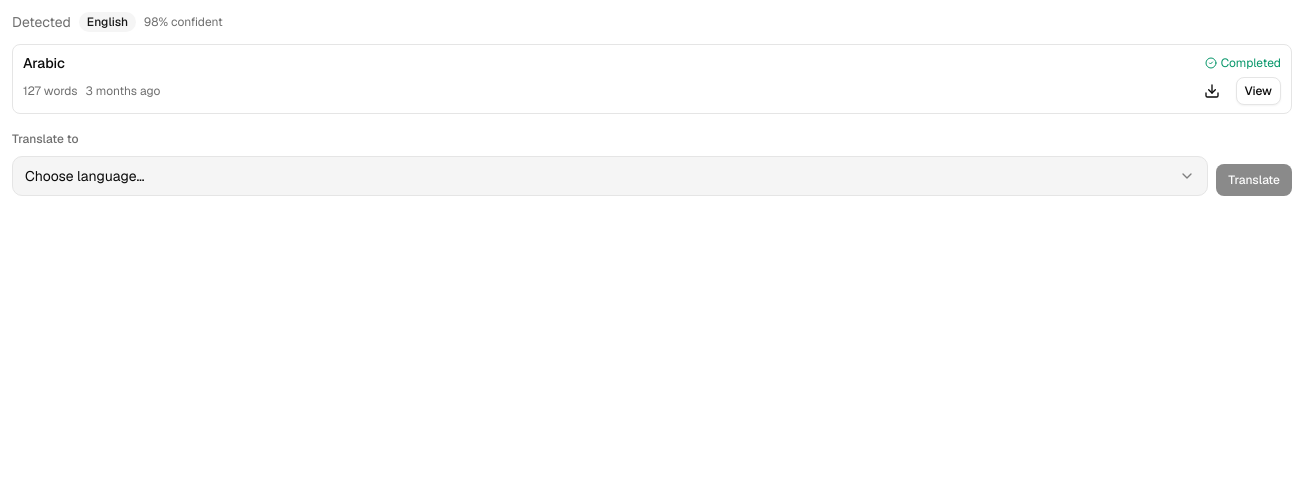
it: <TranslationPanel> › excludes the detected language and already-translated ones from the picker
Click the dropdown: [85, 176] box [12, 156, 1208, 196]
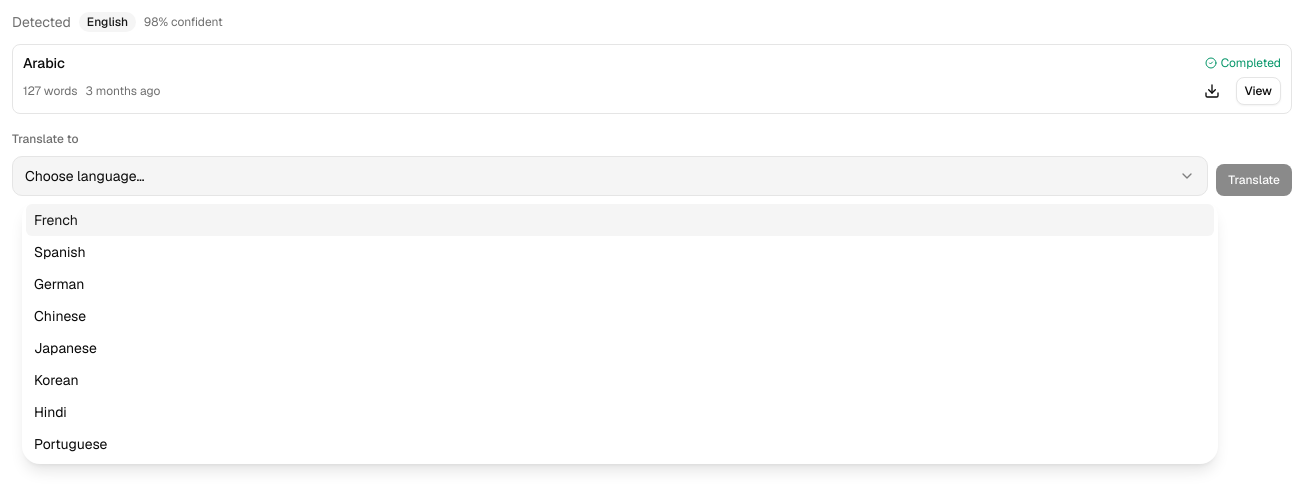
Result: the option "German" is shown at [34, 275, 84, 293]
